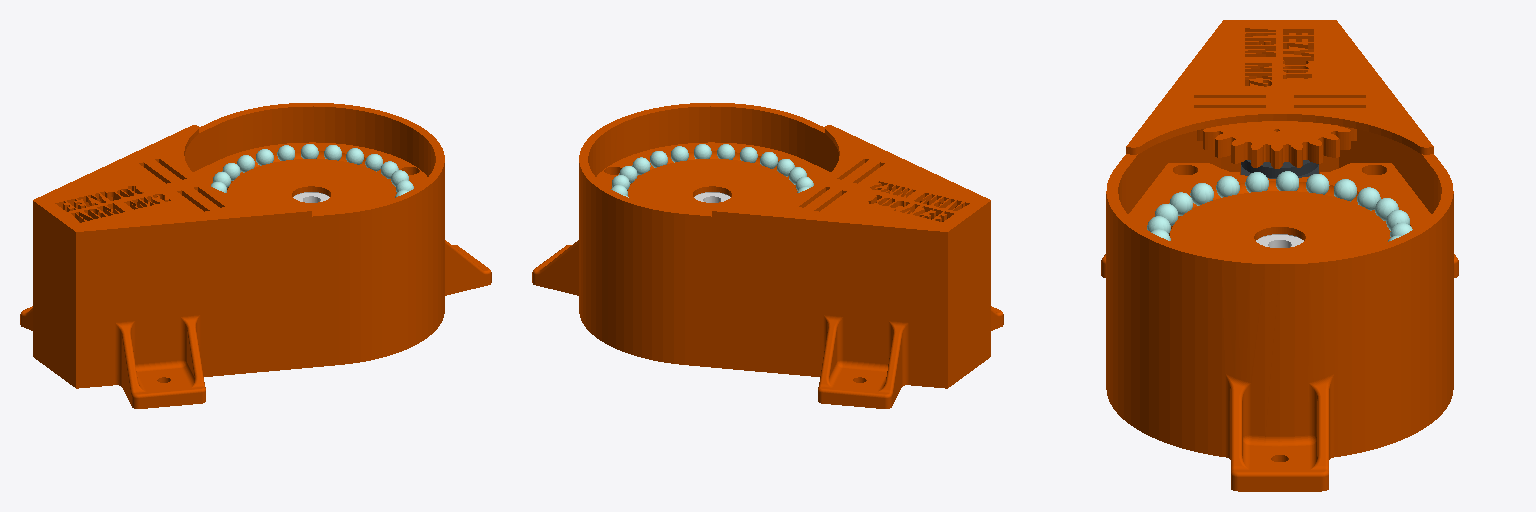
The robot description file, URDF, robot "2dof-robot":
<?xml version="1.0" ?>
<!-- Generated using onshape-to-robot -->
<!-- Onshape https://cad.onshape.com/documents/a8428e0956eeb9cb5dc0837b/w/215e1c7b82e0a3e430162508/e/19ba179f8507112ee7916c45 -->
<robot name="2dof-robot">
  <!-- Link ebamk2_01 -->
  <link name="ebamk2_01">
    <inertial>
      <origin xyz="0 0 0" rpy="0 0 0"/>
      <mass value="1e-09"/>
      <inertia ixx="1e-09" ixy="0" ixz="0" iyy="1e-09" iyz="0" izz="1e-09"/>
    </inertial>
    <!-- Part 019_cover -->
    <visual>
      <origin xyz="0 0 0.055" rpy="0 -0 0"/>
      <geometry>
        <mesh filename="package://assets/019_cover.stl"/>
      </geometry>
      <material name="019_cover_material">
        <color rgba="0.843137 0.352941 0 1"/>
      </material>
    </visual>
    <collision>
      <origin xyz="0 0 0.055" rpy="0 -0 0"/>
      <geometry>
        <mesh filename="package://assets/019_cover.stl"/>
      </geometry>
    </collision>
    <!-- Part 013_lower_base -->
    <visual>
      <origin xyz="0 -0 0.034" rpy="0 -0 0"/>
      <geometry>
        <mesh filename="package://assets/013_lower_base.stl"/>
      </geometry>
      <material name="013_lower_base_material">
        <color rgba="0.843137 0.352941 0 1"/>
      </material>
    </visual>
    <collision>
      <origin xyz="0 -0 0.034" rpy="0 -0 0"/>
      <geometry>
        <mesh filename="package://assets/013_lower_base.stl"/>
      </geometry>
    </collision>
    <!-- Part mg946r -->
    <visual>
      <origin xyz="-0.06605 -0 0.0085" rpy="0 -0 0"/>
      <geometry>
        <mesh filename="package://assets/mg946r.stl"/>
      </geometry>
      <material name="mg946r_material">
        <color rgba="0.262745 0.282353 0.301961 1"/>
      </material>
    </visual>
    <collision>
      <origin xyz="-0.06605 -0 0.0085" rpy="0 -0 0"/>
      <geometry>
        <mesh filename="package://assets/mg946r.stl"/>
      </geometry>
    </collision>
    <!-- Part 020_ball -->
    <visual>
      <origin xyz="0 0.0309123 0.0428783" rpy="0 -0 0"/>
      <geometry>
        <mesh filename="package://assets/020_ball.stl"/>
      </geometry>
      <material name="020_ball_material">
        <color rgba="0.737255 0.937255 0.917647 1"/>
      </material>
    </visual>
    <collision>
      <origin xyz="0 0.0309123 0.0428783" rpy="0 -0 0"/>
      <geometry>
        <mesh filename="package://assets/020_ball.stl"/>
      </geometry>
    </collision>
    <!-- Part 010_gearservo -->
    <visual>
      <origin xyz="-0.0563 -0.00075 0.04445" rpy="-1.5708 -0 1.5708"/>
      <geometry>
        <mesh filename="package://assets/010_gearservo.stl"/>
      </geometry>
      <material name="010_gearservo_material">
        <color rgba="0.843137 0.352941 0 1"/>
      </material>
    </visual>
    <collision>
      <origin xyz="-0.0563 -0.00075 0.04445" rpy="-1.5708 -0 1.5708"/>
      <geometry>
        <mesh filename="package://assets/010_gearservo.stl"/>
      </geometry>
    </collision>
    <!-- Part mg946r_piattelo -->
    <visual>
      <origin xyz="-0.0563 -0 0.0459" rpy="0 -0 0"/>
      <geometry>
        <mesh filename="package://assets/mg946r_piattelo.stl"/>
      </geometry>
      <material name="mg946r_piattelo_material">
        <color rgba="0.0431373 0.0392157 0.0392157 1"/>
      </material>
    </visual>
    <collision>
      <origin xyz="-0.0563 -0 0.0459" rpy="0 -0 0"/>
      <geometry>
        <mesh filename="package://assets/mg946r_piattelo.stl"/>
      </geometry>
    </collision>
    <!-- Part 012_base -->
    <visual>
      <origin xyz="0 0 0" rpy="0 -0 0"/>
      <geometry>
        <mesh filename="package://assets/012_base.stl"/>
      </geometry>
      <material name="012_base_material">
        <color rgba="0.843137 0.352941 0 1"/>
      </material>
    </visual>
    <collision>
      <origin xyz="0 0 0" rpy="0 -0 0"/>
      <geometry>
        <mesh filename="package://assets/012_base.stl"/>
      </geometry>
    </collision>
    <!-- Part 606 -->
    <visual>
      <origin xyz="0 0 0.037" rpy="0 -0 0"/>
      <geometry>
        <mesh filename="package://assets/606.stl"/>
      </geometry>
      <material name="606_material">
        <color rgba="0.901961 0.901961 0.901961 1"/>
      </material>
    </visual>
    <collision>
      <origin xyz="0 0 0.037" rpy="0 -0 0"/>
      <geometry>
        <mesh filename="package://assets/606.stl"/>
      </geometry>
    </collision>
    <!-- Part 020_ball_2 -->
    <visual>
      <origin xyz="0.0181698 -0.0250086 0.0428783" rpy="0 -0 -2.51327"/>
      <geometry>
        <mesh filename="package://assets/020_ball.stl"/>
      </geometry>
      <material name="020_ball_2_material">
        <color rgba="0.737255 0.937255 0.917647 1"/>
      </material>
    </visual>
    <collision>
      <origin xyz="0.0181698 -0.0250086 0.0428783" rpy="0 -0 -2.51327"/>
      <geometry>
        <mesh filename="package://assets/020_ball.stl"/>
      </geometry>
    </collision>
    <!-- Part 020_ball_3 -->
    <visual>
      <origin xyz="0.0261001 0.0165636 0.0428783" rpy="0 -0 -1.00531"/>
      <geometry>
        <mesh filename="package://assets/020_ball.stl"/>
      </geometry>
      <material name="020_ball_3_material">
        <color rgba="0.737255 0.937255 0.917647 1"/>
      </material>
    </visual>
    <collision>
      <origin xyz="0.0261001 0.0165636 0.0428783" rpy="0 -0 -1.00531"/>
      <geometry>
        <mesh filename="package://assets/020_ball.stl"/>
      </geometry>
    </collision>
    <!-- Part 020_ball_4 -->
    <visual>
      <origin xyz="-0.0113796 -0.0287415 0.0428783" rpy="0 -0 2.7646"/>
      <geometry>
        <mesh filename="package://assets/020_ball.stl"/>
      </geometry>
      <material name="020_ball_4_material">
        <color rgba="0.737255 0.937255 0.917647 1"/>
      </material>
    </visual>
    <collision>
      <origin xyz="-0.0113796 -0.0287415 0.0428783" rpy="0 -0 2.7646"/>
      <geometry>
        <mesh filename="package://assets/020_ball.stl"/>
      </geometry>
    </collision>
    <!-- Part 020_ball_5 -->
    <visual>
      <origin xyz="0.00387434 -0.0306685 0.0428783" rpy="0 -0 -3.01593"/>
      <geometry>
        <mesh filename="package://assets/020_ball.stl"/>
      </geometry>
      <material name="020_ball_5_material">
        <color rgba="0.737255 0.937255 0.917647 1"/>
      </material>
    </visual>
    <collision>
      <origin xyz="0.00387434 -0.0306685 0.0428783" rpy="0 -0 -3.01593"/>
      <geometry>
        <mesh filename="package://assets/020_ball.stl"/>
      </geometry>
    </collision>
    <!-- Part 020_ball_6 -->
    <visual>
      <origin xyz="0.0148921 0.0270886 0.0428783" rpy="0 -0 -0.502655"/>
      <geometry>
        <mesh filename="package://assets/020_ball.stl"/>
      </geometry>
      <material name="020_ball_6_material">
        <color rgba="0.737255 0.937255 0.917647 1"/>
      </material>
    </visual>
    <collision>
      <origin xyz="0.0148921 0.0270886 0.0428783" rpy="0 -0 -0.502655"/>
      <geometry>
        <mesh filename="package://assets/020_ball.stl"/>
      </geometry>
    </collision>
    <!-- Part 020_ball_7 -->
    <visual>
      <origin xyz="-0.0308513 0.001941 0.0428783" rpy="0 -0 1.50796"/>
      <geometry>
        <mesh filename="package://assets/020_ball.stl"/>
      </geometry>
      <material name="020_ball_7_material">
        <color rgba="0.737255 0.937255 0.917647 1"/>
      </material>
    </visual>
    <collision>
      <origin xyz="-0.0308513 0.001941 0.0428783" rpy="0 -0 1.50796"/>
      <geometry>
        <mesh filename="package://assets/020_ball.stl"/>
      </geometry>
    </collision>
    <!-- Part 020_ball_8 -->
    <visual>
      <origin xyz="0.00768757 0.0299411 0.0428783" rpy="0 -0 -0.251327"/>
      <geometry>
        <mesh filename="package://assets/020_ball.stl"/>
      </geometry>
      <material name="020_ball_8_material">
        <color rgba="0.737255 0.937255 0.917647 1"/>
      </material>
    </visual>
    <collision>
      <origin xyz="0.00768757 0.0299411 0.0428783" rpy="0 -0 -0.251327"/>
      <geometry>
        <mesh filename="package://assets/020_ball.stl"/>
      </geometry>
    </collision>
    <!-- Part 020_ball_9 -->
    <visual>
      <origin xyz="0.0303647 -0.00579238 0.0428783" rpy="0 -0 -1.75929"/>
      <geometry>
        <mesh filename="package://assets/020_ball.stl"/>
      </geometry>
      <material name="020_ball_9_material">
        <color rgba="0.737255 0.937255 0.917647 1"/>
      </material>
    </visual>
    <collision>
      <origin xyz="0.0303647 -0.00579238 0.0428783" rpy="0 -0 -1.75929"/>
      <geometry>
        <mesh filename="package://assets/020_ball.stl"/>
      </geometry>
    </collision>
    <!-- Part 020_ball_10 -->
    <visual>
      <origin xyz="0.0308513 0.001941 0.0428783" rpy="0 -0 -1.50796"/>
      <geometry>
        <mesh filename="package://assets/020_ball.stl"/>
      </geometry>
      <material name="020_ball_10_material">
        <color rgba="0.737255 0.937255 0.917647 1"/>
      </material>
    </visual>
    <collision>
      <origin xyz="0.0308513 0.001941 0.0428783" rpy="0 -0 -1.50796"/>
      <geometry>
        <mesh filename="package://assets/020_ball.stl"/>
      </geometry>
    </collision>
    <!-- Part 020_ball_11 -->
    <visual>
      <origin xyz="-0.0303647 -0.00579238 0.0428783" rpy="0 -0 1.75929"/>
      <geometry>
        <mesh filename="package://assets/020_ball.stl"/>
      </geometry>
      <material name="020_ball_11_material">
        <color rgba="0.737255 0.937255 0.917647 1"/>
      </material>
    </visual>
    <collision>
      <origin xyz="-0.0303647 -0.00579238 0.0428783" rpy="0 -0 1.75929"/>
      <geometry>
        <mesh filename="package://assets/020_ball.stl"/>
      </geometry>
    </collision>
    <!-- Part 020_ball_12 -->
    <visual>
      <origin xyz="-0.0261001 0.0165636 0.0428783" rpy="0 -0 1.00531"/>
      <geometry>
        <mesh filename="package://assets/020_ball.stl"/>
      </geometry>
      <material name="020_ball_12_material">
        <color rgba="0.737255 0.937255 0.917647 1"/>
      </material>
    </visual>
    <collision>
      <origin xyz="-0.0261001 0.0165636 0.0428783" rpy="0 -0 1.00531"/>
      <geometry>
        <mesh filename="package://assets/020_ball.stl"/>
      </geometry>
    </collision>
    <!-- Part 020_ball_13 -->
    <visual>
      <origin xyz="0.0238183 -0.0197042 0.0428783" rpy="0 -0 -2.26195"/>
      <geometry>
        <mesh filename="package://assets/020_ball.stl"/>
      </geometry>
      <material name="020_ball_13_material">
        <color rgba="0.737255 0.937255 0.917647 1"/>
      </material>
    </visual>
    <collision>
      <origin xyz="0.0238183 -0.0197042 0.0428783" rpy="0 -0 -2.26195"/>
      <geometry>
        <mesh filename="package://assets/020_ball.stl"/>
      </geometry>
    </collision>
    <!-- Part 020_ball_14 -->
    <visual>
      <origin xyz="-0.0148921 0.0270886 0.0428783" rpy="0 -0 0.502655"/>
      <geometry>
        <mesh filename="package://assets/020_ball.stl"/>
      </geometry>
      <material name="020_ball_14_material">
        <color rgba="0.737255 0.937255 0.917647 1"/>
      </material>
    </visual>
    <collision>
      <origin xyz="-0.0148921 0.0270886 0.0428783" rpy="0 -0 0.502655"/>
      <geometry>
        <mesh filename="package://assets/020_ball.stl"/>
      </geometry>
    </collision>
    <!-- Part 020_ball_15 -->
    <visual>
      <origin xyz="0.0113796 -0.0287415 0.0428783" rpy="0 -0 -2.7646"/>
      <geometry>
        <mesh filename="package://assets/020_ball.stl"/>
      </geometry>
      <material name="020_ball_15_material">
        <color rgba="0.737255 0.937255 0.917647 1"/>
      </material>
    </visual>
    <collision>
      <origin xyz="0.0113796 -0.0287415 0.0428783" rpy="0 -0 -2.7646"/>
      <geometry>
        <mesh filename="package://assets/020_ball.stl"/>
      </geometry>
    </collision>
    <!-- Part 020_ball_16 -->
    <visual>
      <origin xyz="0.0211609 0.0225341 0.0428783" rpy="0 -0 -0.753982"/>
      <geometry>
        <mesh filename="package://assets/020_ball.stl"/>
      </geometry>
      <material name="020_ball_16_material">
        <color rgba="0.737255 0.937255 0.917647 1"/>
      </material>
    </visual>
    <collision>
      <origin xyz="0.0211609 0.0225341 0.0428783" rpy="0 -0 -0.753982"/>
      <geometry>
        <mesh filename="package://assets/020_ball.stl"/>
      </geometry>
    </collision>
    <!-- Part 020_ball_17 -->
    <visual>
      <origin xyz="-0.0181698 -0.0250086 0.0428783" rpy="0 -0 2.51327"/>
      <geometry>
        <mesh filename="package://assets/020_ball.stl"/>
      </geometry>
      <material name="020_ball_17_material">
        <color rgba="0.737255 0.937255 0.917647 1"/>
      </material>
    </visual>
    <collision>
      <origin xyz="-0.0181698 -0.0250086 0.0428783" rpy="0 -0 2.51327"/>
      <geometry>
        <mesh filename="package://assets/020_ball.stl"/>
      </geometry>
    </collision>
    <!-- Part 020_ball_18 -->
    <visual>
      <origin xyz="-0.0211609 0.0225341 0.0428783" rpy="0 -0 0.753982"/>
      <geometry>
        <mesh filename="package://assets/020_ball.stl"/>
      </geometry>
      <material name="020_ball_18_material">
        <color rgba="0.737255 0.937255 0.917647 1"/>
      </material>
    </visual>
    <collision>
      <origin xyz="-0.0211609 0.0225341 0.0428783" rpy="0 -0 0.753982"/>
      <geometry>
        <mesh filename="package://assets/020_ball.stl"/>
      </geometry>
    </collision>
    <!-- Part 020_ball_19 -->
    <visual>
      <origin xyz="-0.0238183 -0.0197042 0.0428783" rpy="0 -0 2.26195"/>
      <geometry>
        <mesh filename="package://assets/020_ball.stl"/>
      </geometry>
      <material name="020_ball_19_material">
        <color rgba="0.737255 0.937255 0.917647 1"/>
      </material>
    </visual>
    <collision>
      <origin xyz="-0.0238183 -0.0197042 0.0428783" rpy="0 -0 2.26195"/>
      <geometry>
        <mesh filename="package://assets/020_ball.stl"/>
      </geometry>
    </collision>
    <!-- Part 020_ball_20 -->
    <visual>
      <origin xyz="-0.00768757 0.0299411 0.0428783" rpy="0 -0 0.251327"/>
      <geometry>
        <mesh filename="package://assets/020_ball.stl"/>
      </geometry>
      <material name="020_ball_20_material">
        <color rgba="0.737255 0.937255 0.917647 1"/>
      </material>
    </visual>
    <collision>
      <origin xyz="-0.00768757 0.0299411 0.0428783" rpy="0 -0 0.251327"/>
      <geometry>
        <mesh filename="package://assets/020_ball.stl"/>
      </geometry>
    </collision>
    <!-- Part 020_ball_21 -->
    <visual>
      <origin xyz="0.0279703 -0.0131618 0.0428783" rpy="0 -0 -2.01062"/>
      <geometry>
        <mesh filename="package://assets/020_ball.stl"/>
      </geometry>
      <material name="020_ball_21_material">
        <color rgba="0.737255 0.937255 0.917647 1"/>
      </material>
    </visual>
    <collision>
      <origin xyz="0.0279703 -0.0131618 0.0428783" rpy="0 -0 -2.01062"/>
      <geometry>
        <mesh filename="package://assets/020_ball.stl"/>
      </geometry>
    </collision>
    <!-- Part 020_ball_22 -->
    <visual>
      <origin xyz="-0.00387434 -0.0306685 0.0428783" rpy="0 -0 3.01593"/>
      <geometry>
        <mesh filename="package://assets/020_ball.stl"/>
      </geometry>
      <material name="020_ball_22_material">
        <color rgba="0.737255 0.937255 0.917647 1"/>
      </material>
    </visual>
    <collision>
      <origin xyz="-0.00387434 -0.0306685 0.0428783" rpy="0 -0 3.01593"/>
      <geometry>
        <mesh filename="package://assets/020_ball.stl"/>
      </geometry>
    </collision>
    <!-- Part 020_ball_23 -->
    <visual>
      <origin xyz="0.0293993 0.00955242 0.0428783" rpy="0 -0 -1.25664"/>
      <geometry>
        <mesh filename="package://assets/020_ball.stl"/>
      </geometry>
      <material name="020_ball_23_material">
        <color rgba="0.737255 0.937255 0.917647 1"/>
      </material>
    </visual>
    <collision>
      <origin xyz="0.0293993 0.00955242 0.0428783" rpy="0 -0 -1.25664"/>
      <geometry>
        <mesh filename="package://assets/020_ball.stl"/>
      </geometry>
    </collision>
    <!-- Part 020_ball_24 -->
    <visual>
      <origin xyz="-0.0279703 -0.0131618 0.0428783" rpy="0 -0 2.01062"/>
      <geometry>
        <mesh filename="package://assets/020_ball.stl"/>
      </geometry>
      <material name="020_ball_24_material">
        <color rgba="0.737255 0.937255 0.917647 1"/>
      </material>
    </visual>
    <collision>
      <origin xyz="-0.0279703 -0.0131618 0.0428783" rpy="0 -0 2.01062"/>
      <geometry>
        <mesh filename="package://assets/020_ball.stl"/>
      </geometry>
    </collision>
    <!-- Part 020_ball_25 -->
    <visual>
      <origin xyz="-0.0293993 0.00955242 0.0428783" rpy="0 -0 1.25664"/>
      <geometry>
        <mesh filename="package://assets/020_ball.stl"/>
      </geometry>
      <material name="020_ball_25_material">
        <color rgba="0.737255 0.937255 0.917647 1"/>
      </material>
    </visual>
    <collision>
      <origin xyz="-0.0293993 0.00955242 0.0428783" rpy="0 -0 1.25664"/>
      <geometry>
        <mesh filename="package://assets/020_ball.stl"/>
      </geometry>
    </collision>
  </link>
</robot>

--- Render facts (derived) ---
Views: 3 orthographic renders of the robot side by side, from view 1: azimuth 30°, elevation 25°; view 2: azimuth 150°, elevation 25°; view 3: azimuth 270°, elevation 25°.
Model 2dof-robot with 1 links and 0 joints (none), rooted at ebamk2_01, posed every joint at zero.
Links seen in each view (by area): view 1: ebamk2_01; view 2: ebamk2_01; view 3: ebamk2_01.
Boxes of the visible links, x1,y1,x2,y2 form: ebamk2_01: (20,103,491,408); ebamk2_01: (532,103,1003,408); ebamk2_01: (1101,20,1458,491).
Size in the robot's own frame: 0.1602 by 0.0906 by 0.057 metres.
32 mesh visuals loaded from 8 distinct referenced files (8 binary STL).
